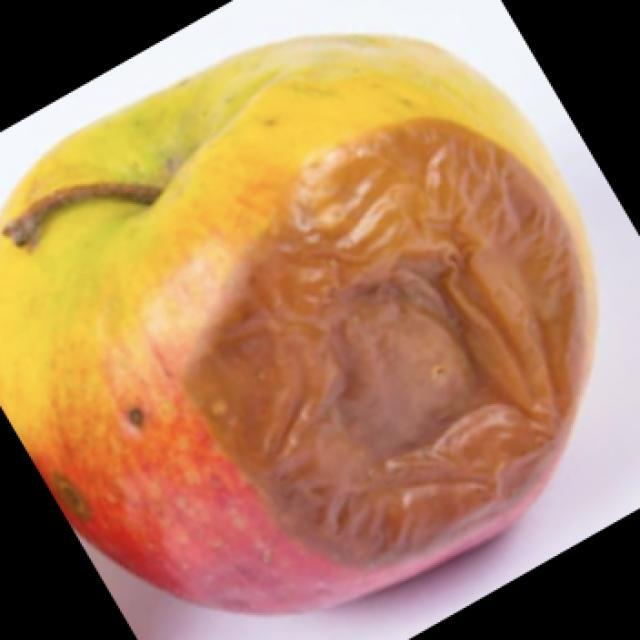Rotten: (25, 49, 585, 598)
